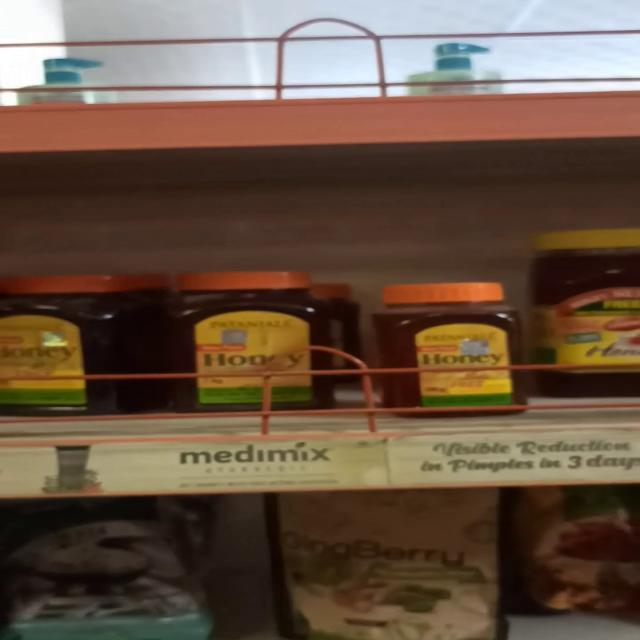Patanjali Honey: (178, 275, 326, 417), (382, 276, 524, 416)
